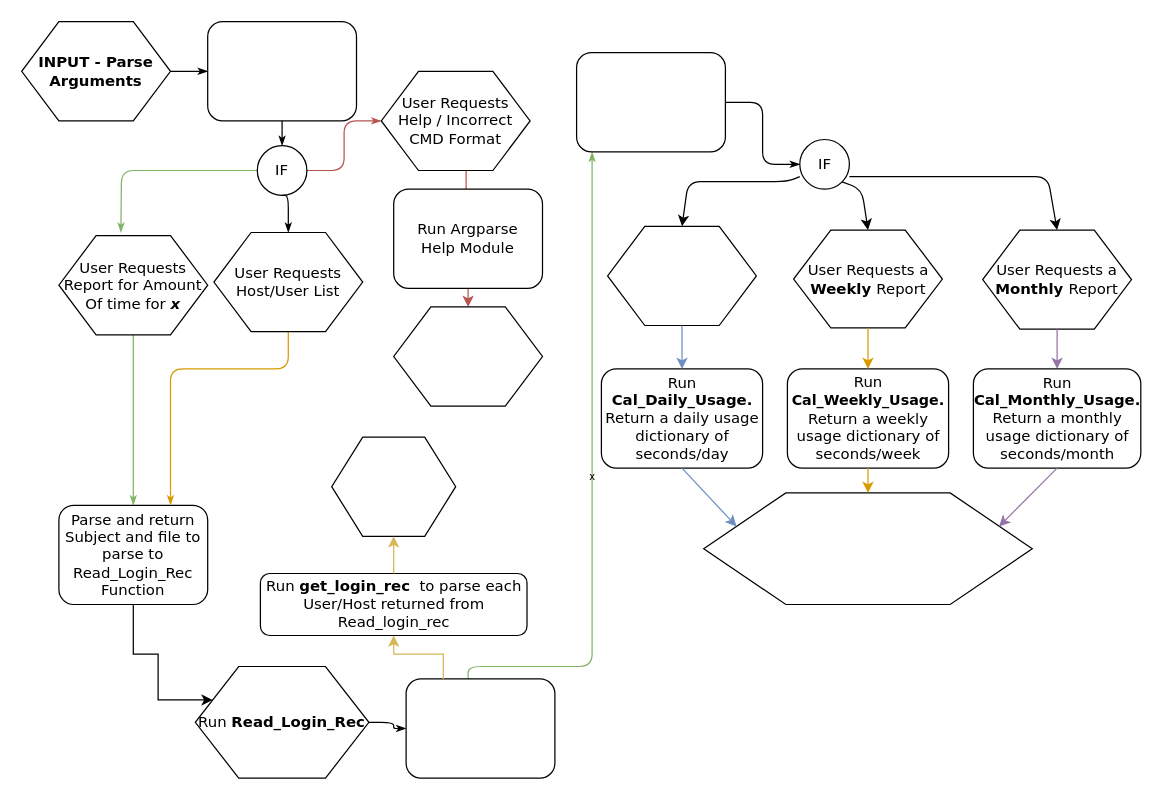
Some shapes in this 1163 by 800 pixel diagram are drawn without their labels. Here are the shapes that lost their labels. From the top down, the centre of each, then its label:
At pixel 281 70: "Parse Data from Command".
At pixel 650 101: "Pass lines where user/host is mentioned to Dictionary".
At pixel 681 275: "User Requests a Daily Report".
At pixel 467 356: "Return Help Module for Argparse".
At pixel 393 486: "Return formatted text to user to view".
At pixel 867 548: "Run Print_Statement (format text and print report to user)".
At pixel 480 728: "Return Lines which User/Host is mentioned".
